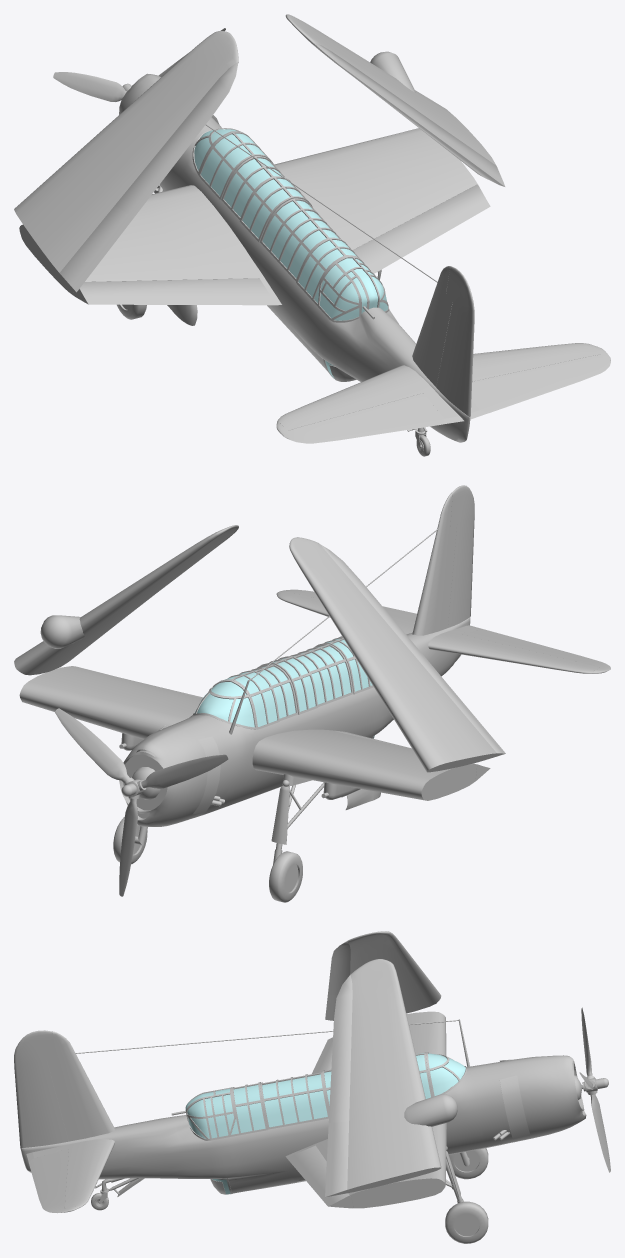
The model's file is TBY Sea Wolf_wings.FBX.
3 views of the same model, one above another, from view 1: azimuth 30°, elevation 25°; view 2: azimuth 150°, elevation 25°; view 3: azimuth 270°, elevation 25° (orthographic). The views are drawn at different scales.
Visible parts, largest first — view 1: TBY Sea Wolf, Box004, glass; view 2: TBY Sea Wolf, Box004, glass; view 3: TBY Sea Wolf, glass, Box004.
Part boxes in pixels (left/top/right/bottom): TBY Sea Wolf: left=19, top=14, right=610, bottom=456; Box004: left=14, top=31, right=238, bottom=292; glass: left=194, top=129, right=387, bottom=378; TBY Sea Wolf: left=14, top=485, right=610, bottom=902; Box004: left=289, top=537, right=505, bottom=772; glass: left=194, top=638, right=374, bottom=738; TBY Sea Wolf: left=14, top=959, right=610, bottom=1243; glass: left=185, top=1053, right=465, bottom=1194; Box004: left=325, top=931, right=441, bottom=1020.
Size of the model in its own units: 8.72 by 5.91 by 12.07.
